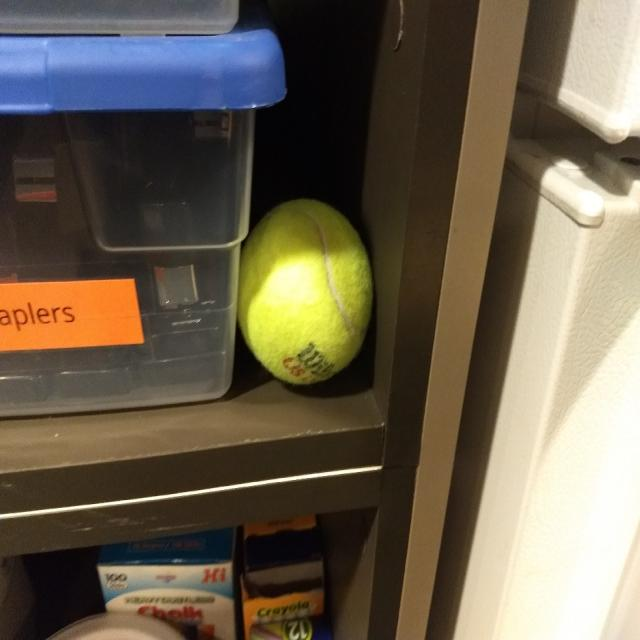Tennis-Ball: (237, 197, 375, 387)
